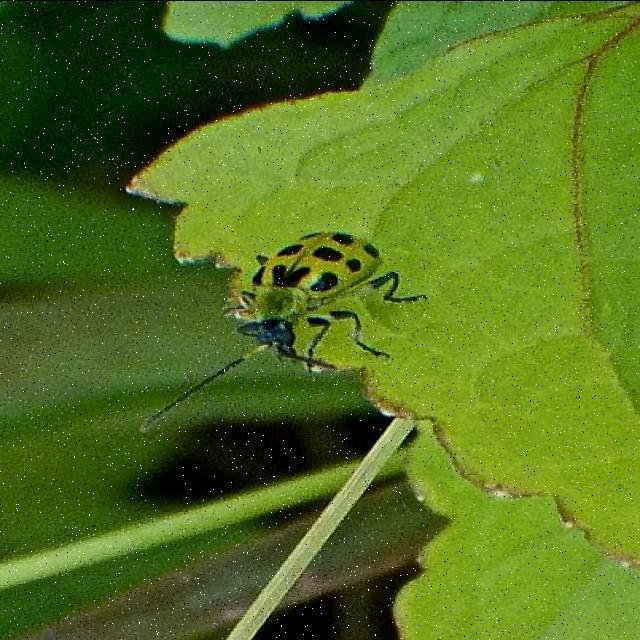gusano_verde: (138, 198, 428, 431)
